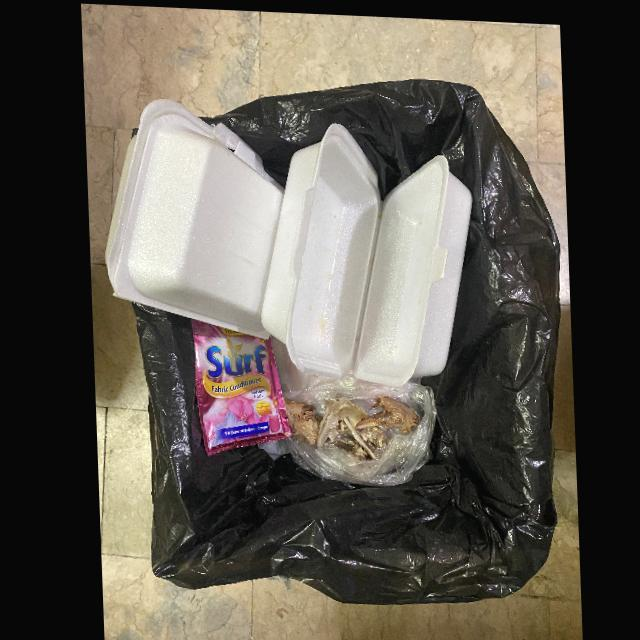biowaste: (283, 393, 416, 458)
plastic: (280, 374, 433, 483)
styrofoam: (258, 120, 470, 384), (101, 98, 283, 338)
wrapper: (187, 318, 288, 455)
